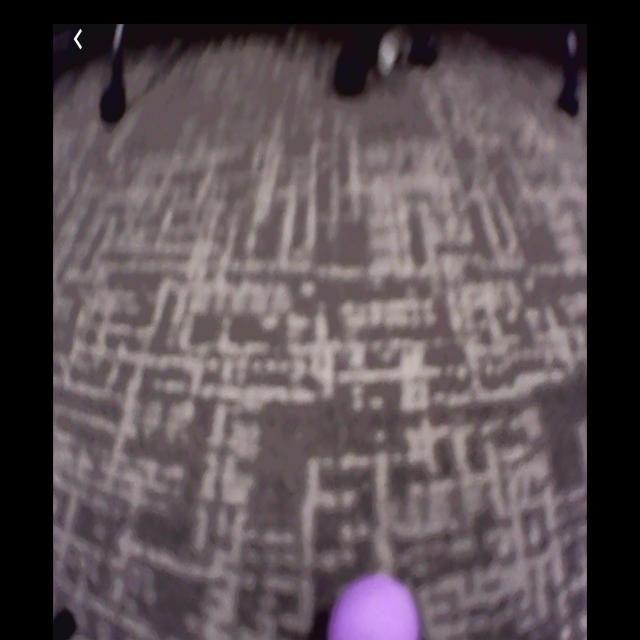ball: (327, 577, 424, 640)
